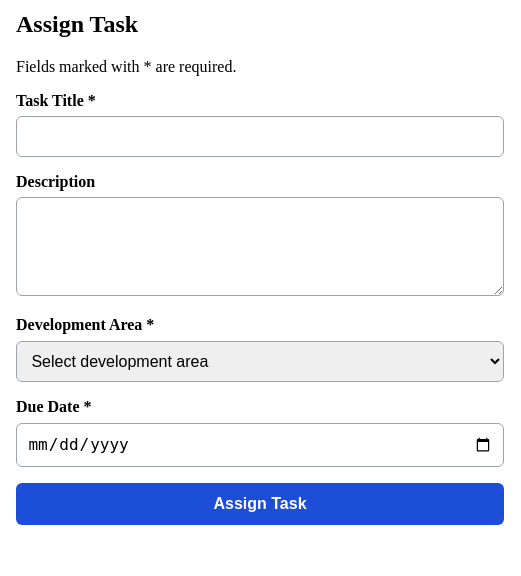
Test: TaskForm › shows a permission message for HTTP 403
The image size is (521, 576).
Type "Read a book" into the field labelled "Task Title *" at (260, 137), box [16, 116, 504, 157]
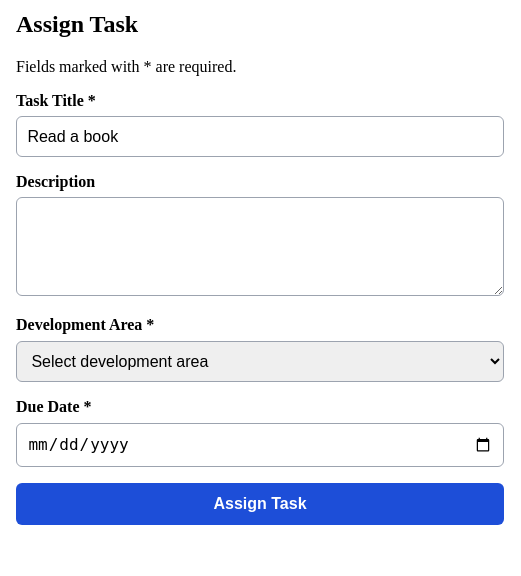
Type "Read for 15 minutes" into the text box labelled "Description" at (260, 247), box [16, 197, 504, 296]
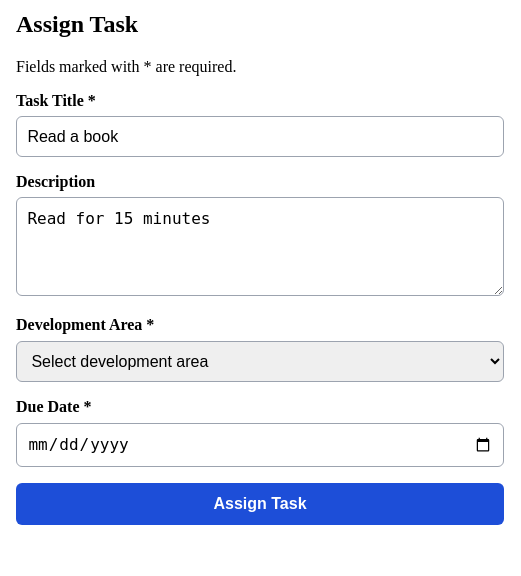
Select "Language" in the dropdown labelled "Development Area *" at (260, 361), box [16, 340, 504, 382]
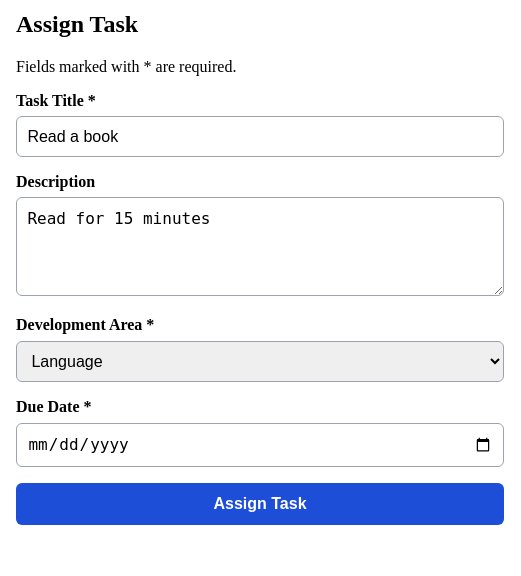
Type "2026-12-01" into the date field labelled "Due Date *" at (260, 445), box [16, 423, 504, 466]
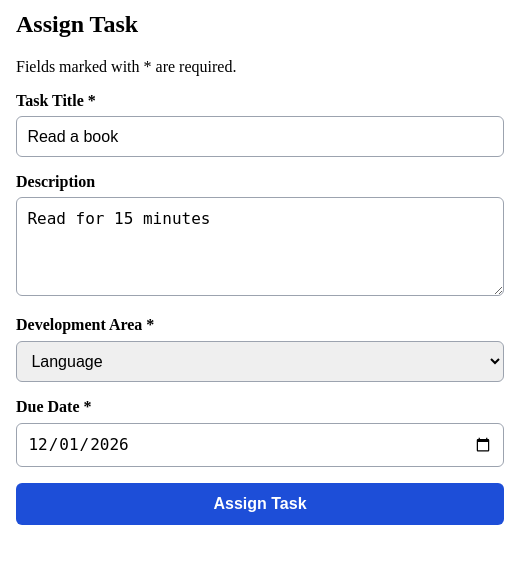
Click the button "Assign Task" at (260, 504), box [16, 482, 504, 524]
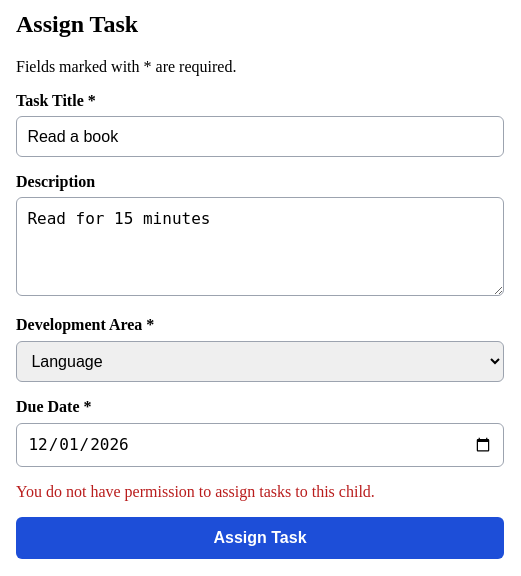
Expected: the message reads "You do not have permission to assign tasks to this child.", [16, 482, 375, 500]
